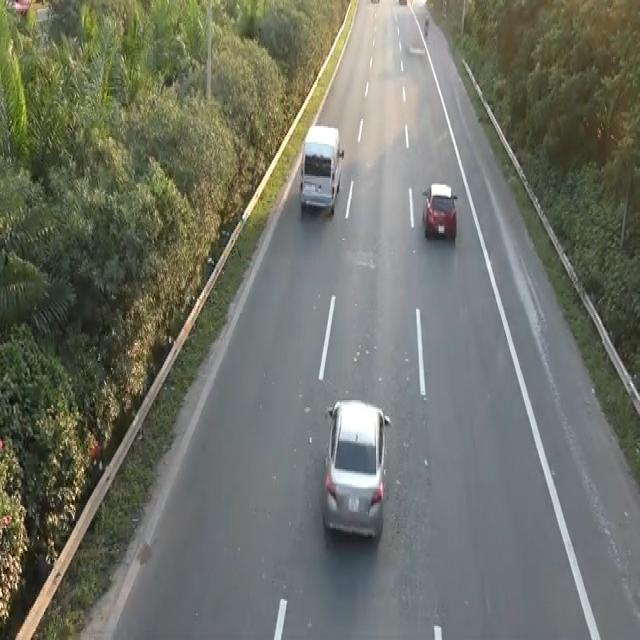bus: (319, 393, 394, 549), (420, 180, 458, 242)
jeep: (297, 121, 345, 217)
